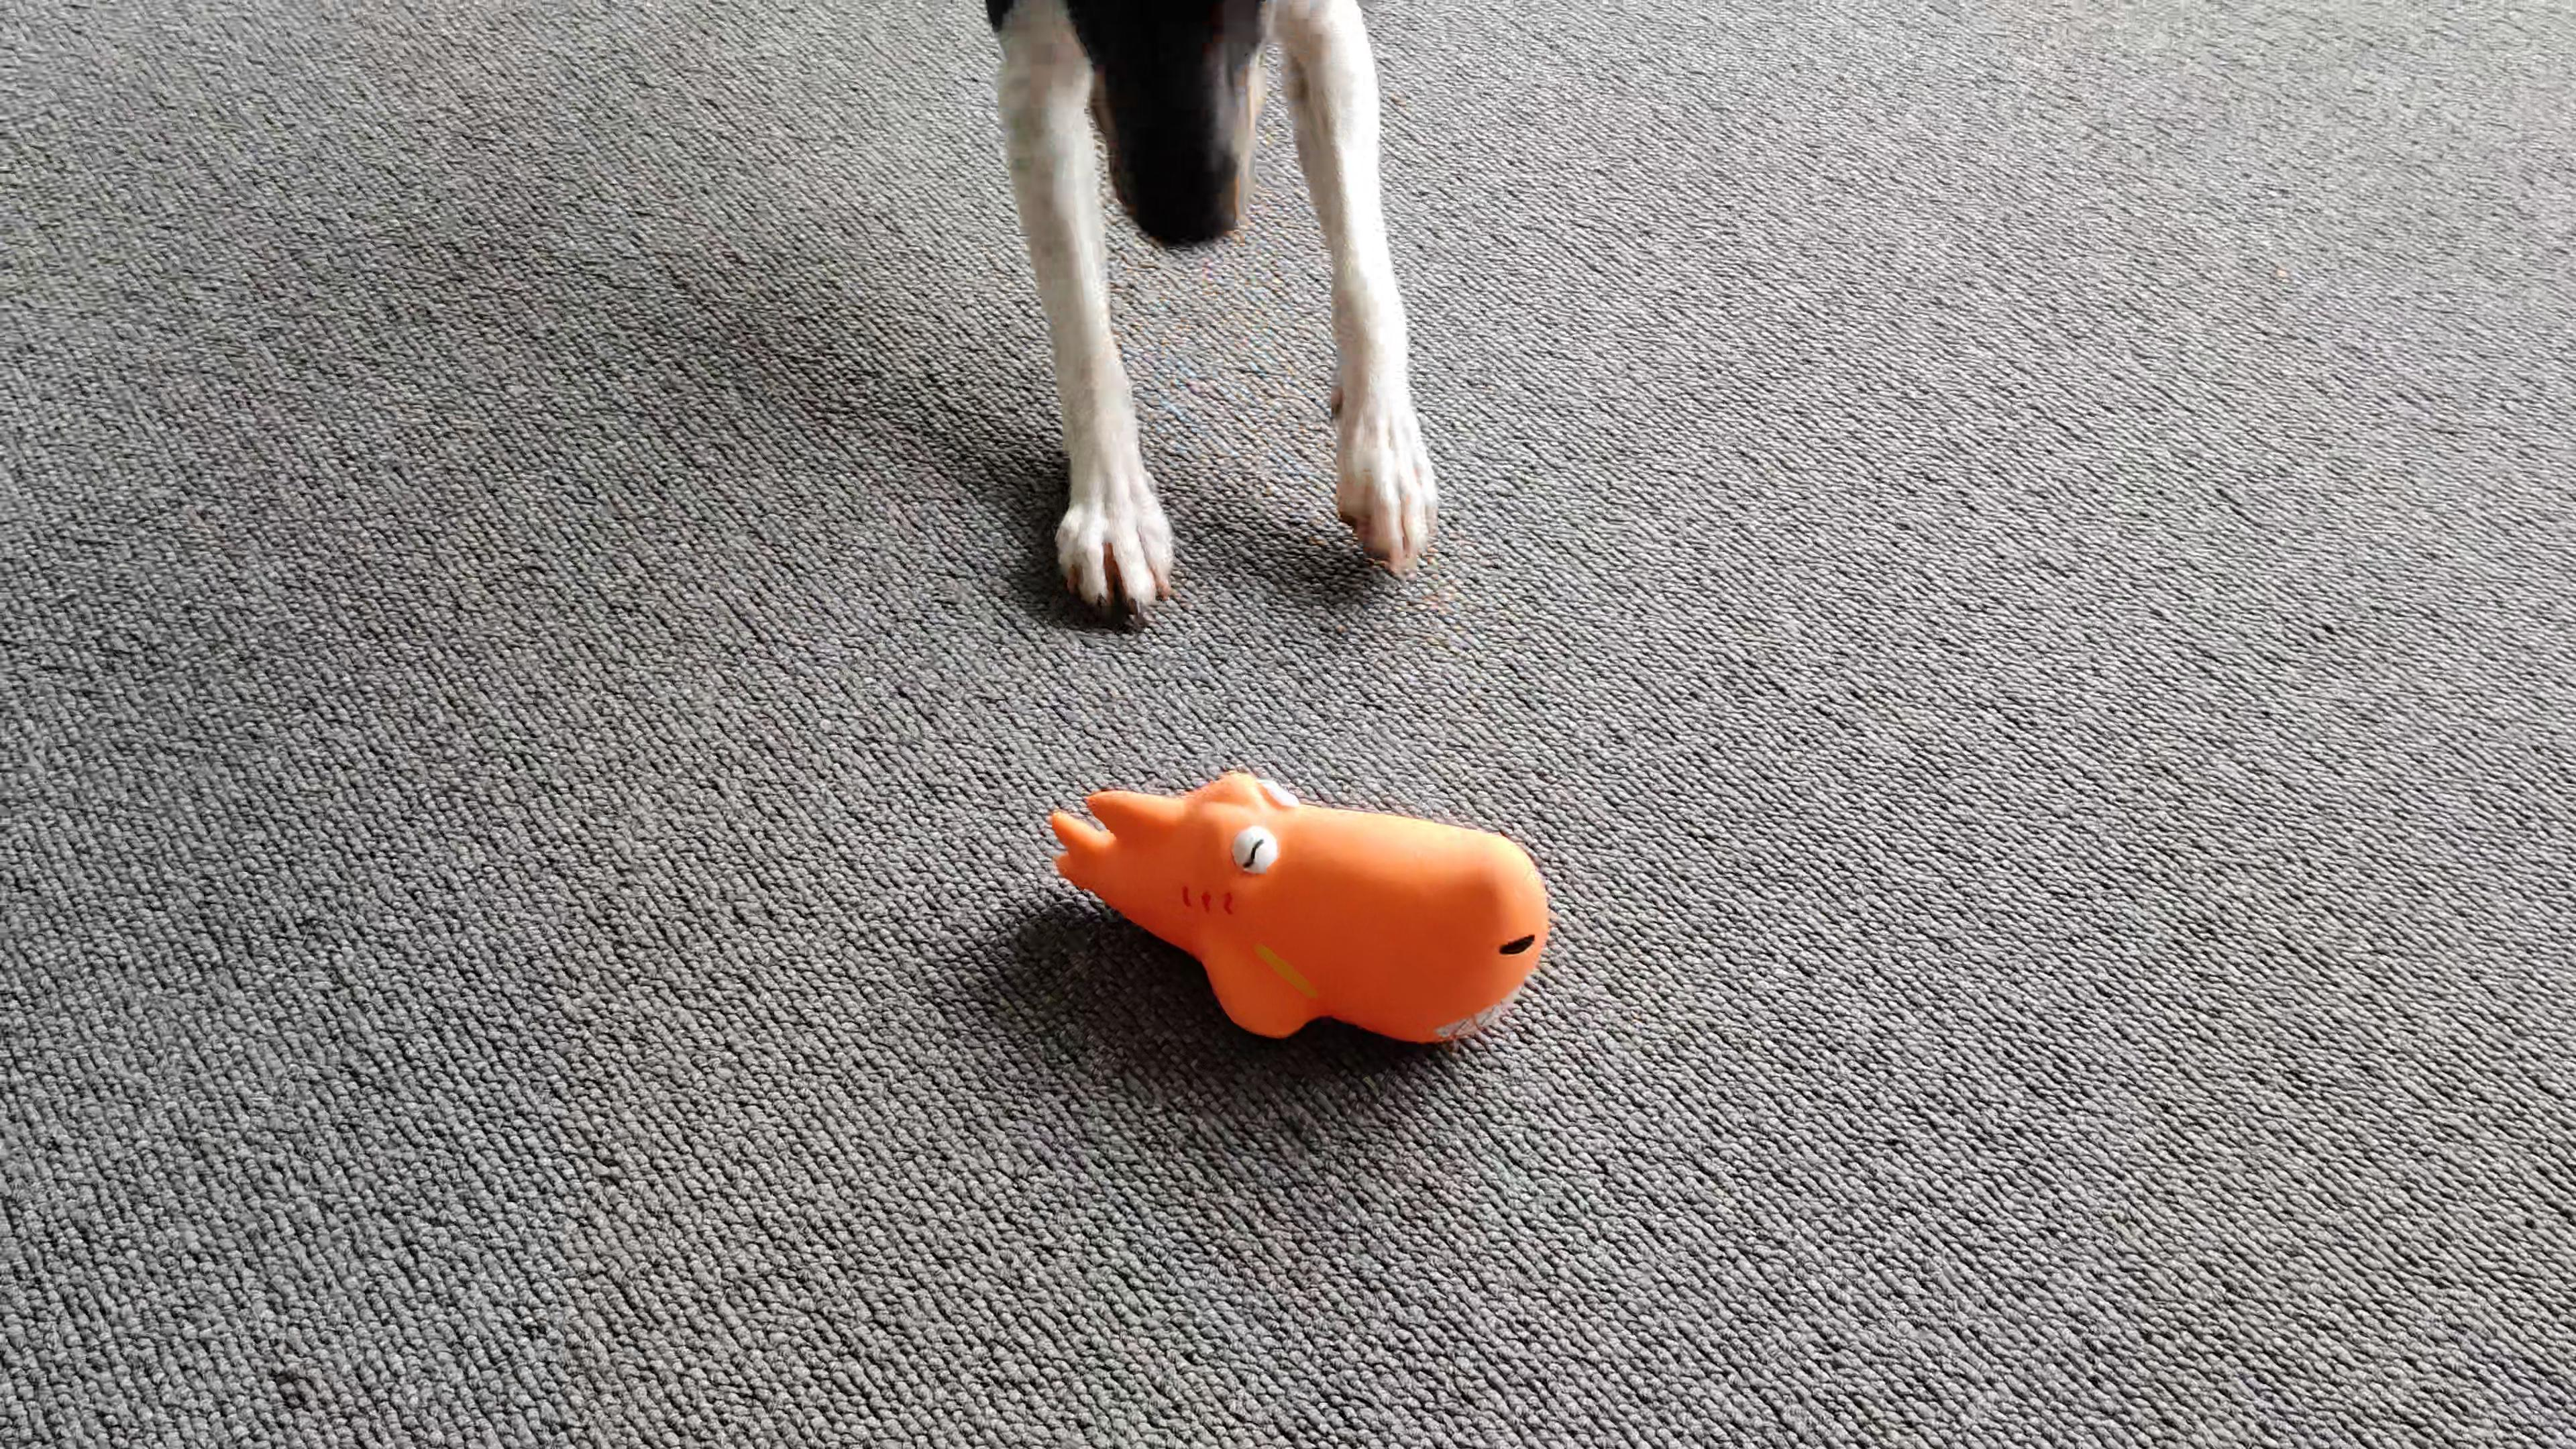Dog: (980, 0, 1454, 637)
